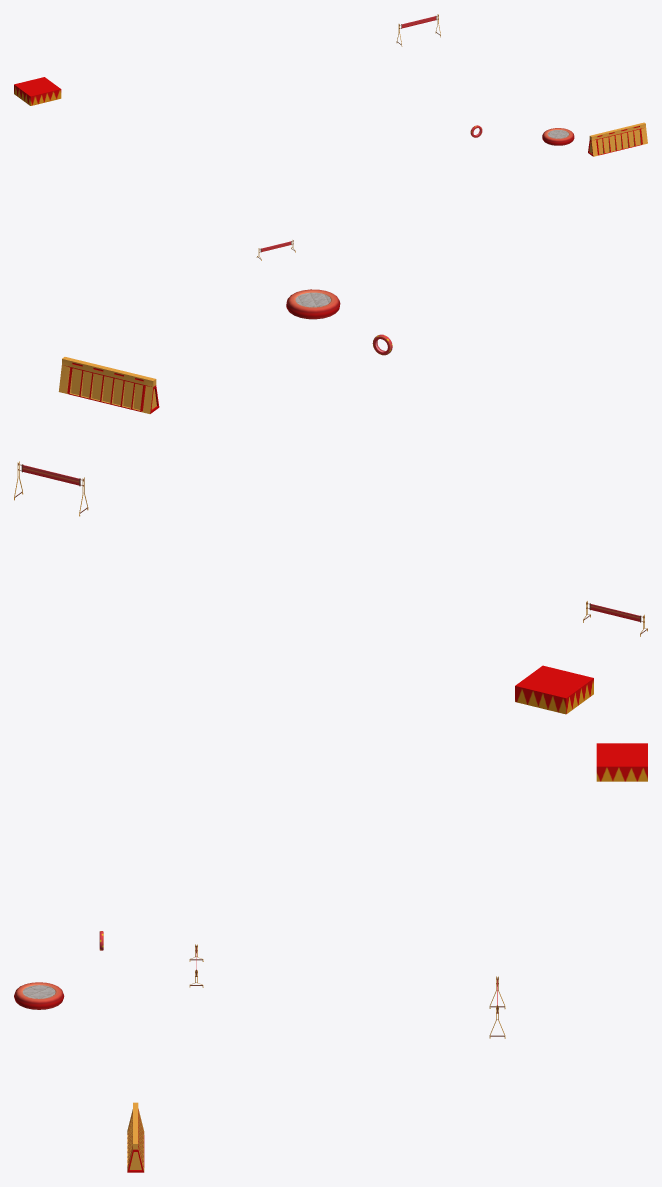
Rendered from props.fbx.
The picture shows the model from 3 angles, top to bottom: view 1: azimuth 30°, elevation 25°; view 2: azimuth 150°, elevation 25°; view 3: azimuth 270°, elevation 25°; orthographic projection. The views are drawn at different scales.
Visible parts, largest first — view 1: pCube38, pCube41; view 2: pCube38, pCube41, uv:pPipe2, polySurface51; view 3: pCube41, pCube38, uv:pPipe2.
Boxes of the visible parts, left/top/right/bottom form: pCube38: left=588, top=122, right=647, bottom=156; pCube41: left=14, top=77, right=61, bottom=105; pCube38: left=58, top=357, right=159, bottom=413; pCube41: left=515, top=665, right=593, bottom=714; uv:pPipe2: left=286, top=289, right=340, bottom=319; polySurface51: left=14, top=461, right=88, bottom=516; pCube41: left=596, top=743, right=647, bottom=781; pCube38: left=127, top=1102, right=144, bottom=1172; uv:pPipe2: left=14, top=982, right=64, bottom=1009.
Bounding box in the file's own units: 2.49 × 0.5651 × 1.9.
1 material, 1 textured.
